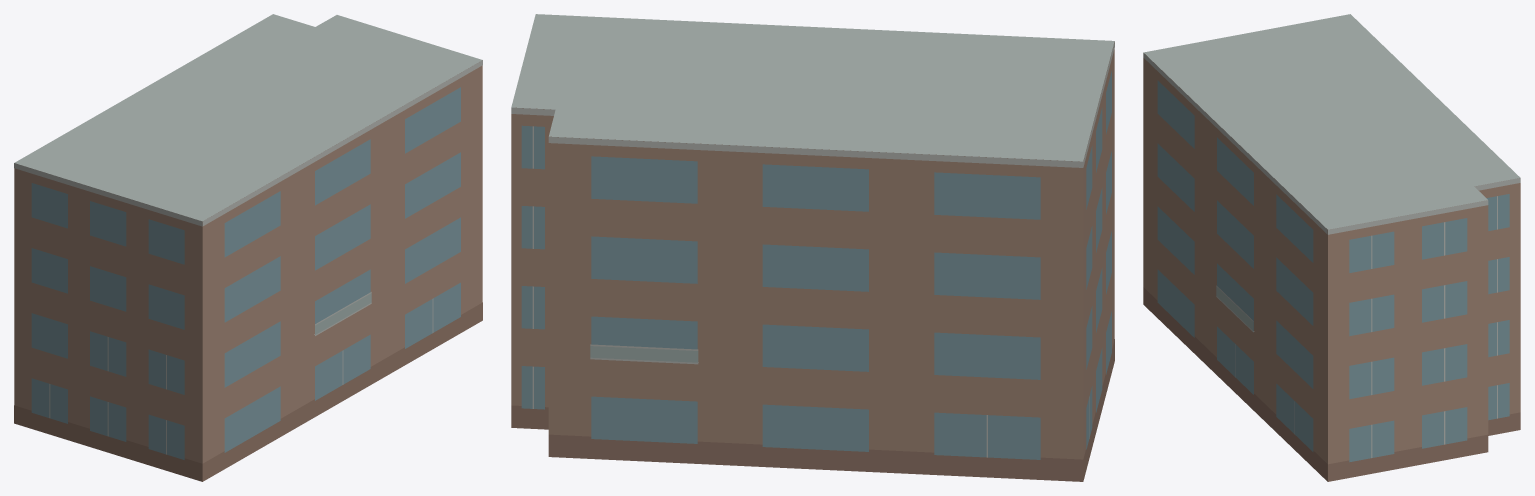
The model's file is residential-21ef82e6-03ef-40b1-8e9a-24e76ec2114c.glb.
The picture shows the model from 3 angles, left to right: view 1: azimuth 30°, elevation 25°; view 2: azimuth 150°, elevation 25°; view 3: azimuth 270°, elevation 25°; orthographic projection. The views are drawn at different scales.
Visible parts, largest first — view 1: residential-21ef82e6-03ef-40b1-8e9a-24e76ec2114c.tmp; view 2: residential-21ef82e6-03ef-40b1-8e9a-24e76ec2114c.tmp; view 3: residential-21ef82e6-03ef-40b1-8e9a-24e76ec2114c.tmp.
Boxes of the visible parts, <box> form: residential-21ef82e6-03ef-40b1-8e9a-24e76ec2114c.tmp: <box>14,14,482,481</box>; residential-21ef82e6-03ef-40b1-8e9a-24e76ec2114c.tmp: <box>511,14,1114,481</box>; residential-21ef82e6-03ef-40b1-8e9a-24e76ec2114c.tmp: <box>1143,14,1520,481</box>.
Size of the model in its own units: 22.41 by 12.2 by 16.55.
